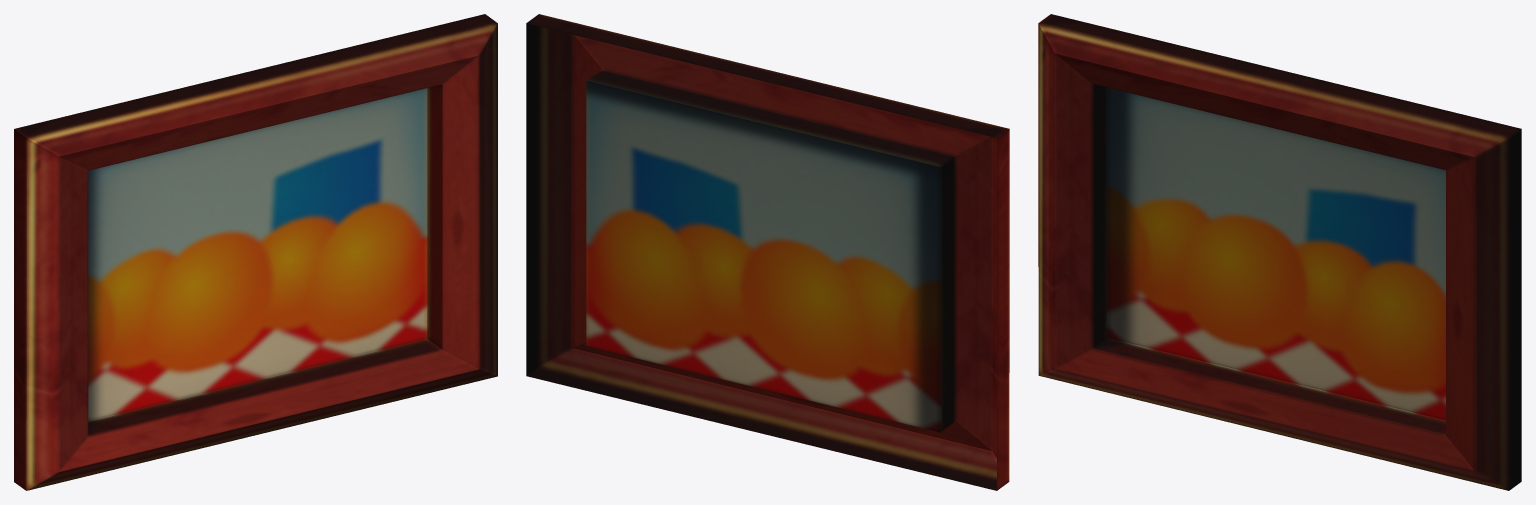
Rendered from videoframe3.dae.
3 views of the same model, side by side, from view 1: azimuth 30°, elevation 25°; view 2: azimuth 150°, elevation 25°; view 3: azimuth 330°, elevation 25° (orthographic).
Parts seen in each view (by area): view 1: Frame3, Image3; view 2: Image3, Frame3; view 3: Frame3, Image3.
Boxes of the visible parts, x1,y1,x2,y2 form: Frame3: (14,14,497,490); Image3: (88,88,427,420); Image3: (586,80,940,432); Frame3: (526,14,1009,490); Frame3: (1038,14,1521,490); Image3: (1107,88,1445,420).
Size of the model in its own units: 2.84 by 2.04 by 0.2153.
Materials: 1 (1 with a texture image).
